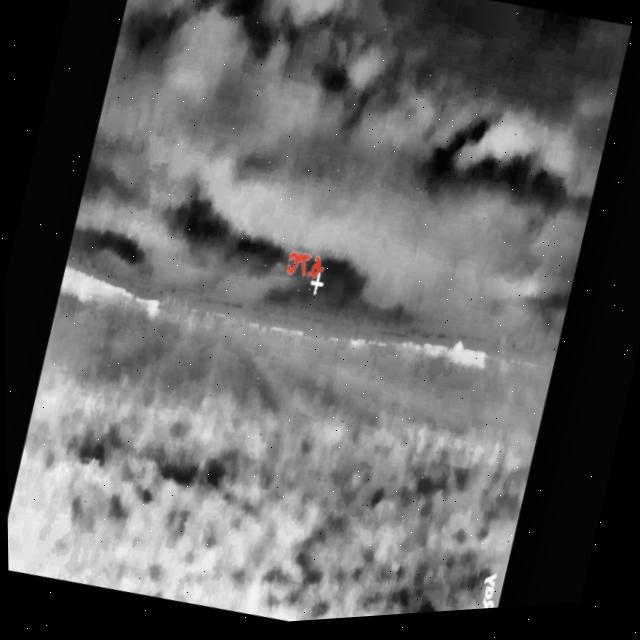drone: (452, 343, 462, 361)
